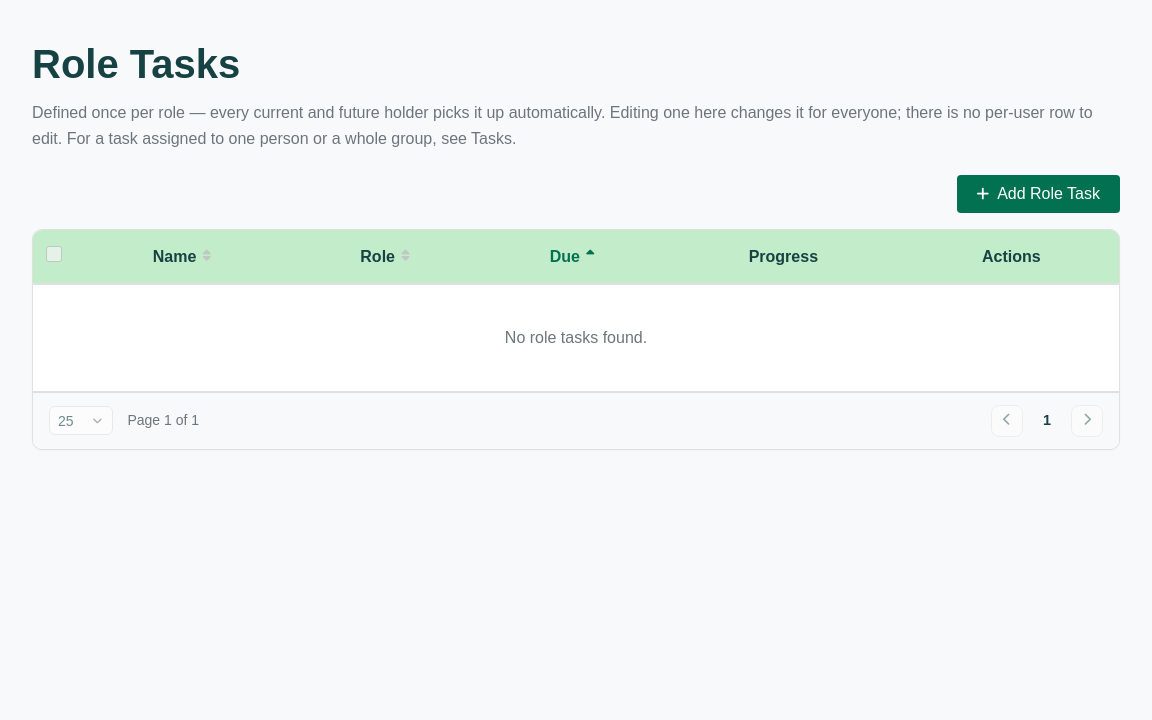
Scenario: AdminRoleTasksPage › offers each role name once when role metadata contains duplicates
This screenshot has width=1152, height=720.
Click the button "Add Role Task".
click(1038, 194)  # box left=956, top=175, right=1120, bottom=213
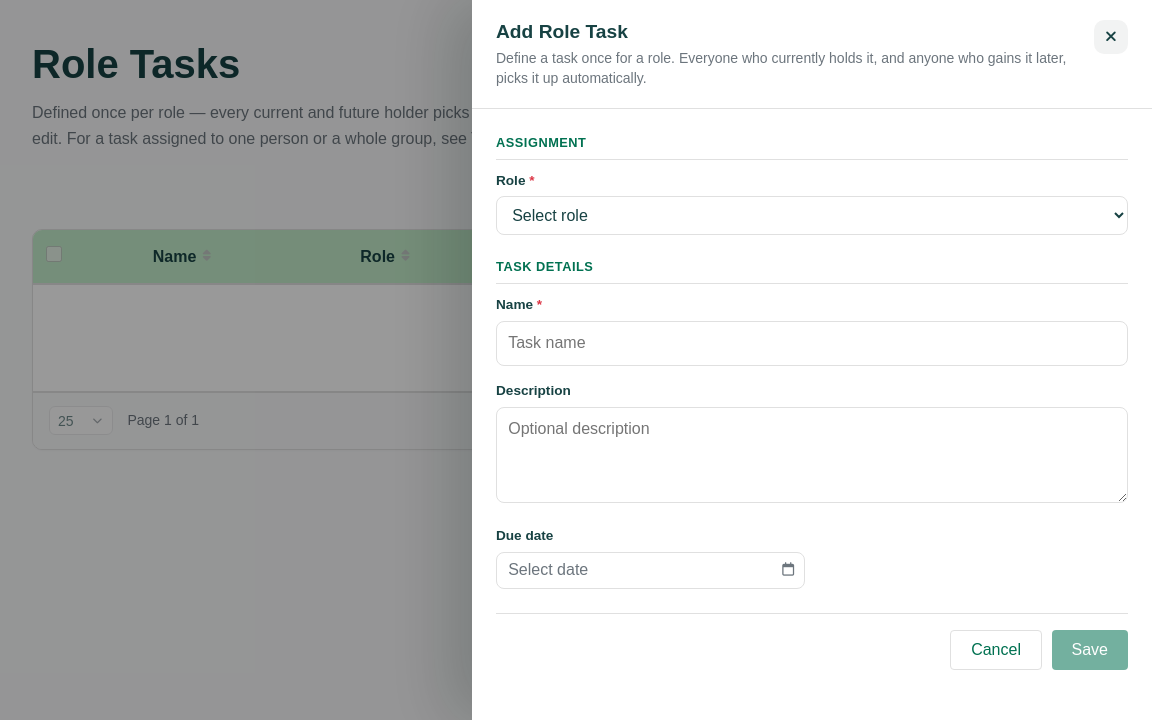
Select "Everyone with the mentor role" in the dropdown with id "role-task-role" at point(812, 216), box left=496, top=196, right=1128, bottom=235
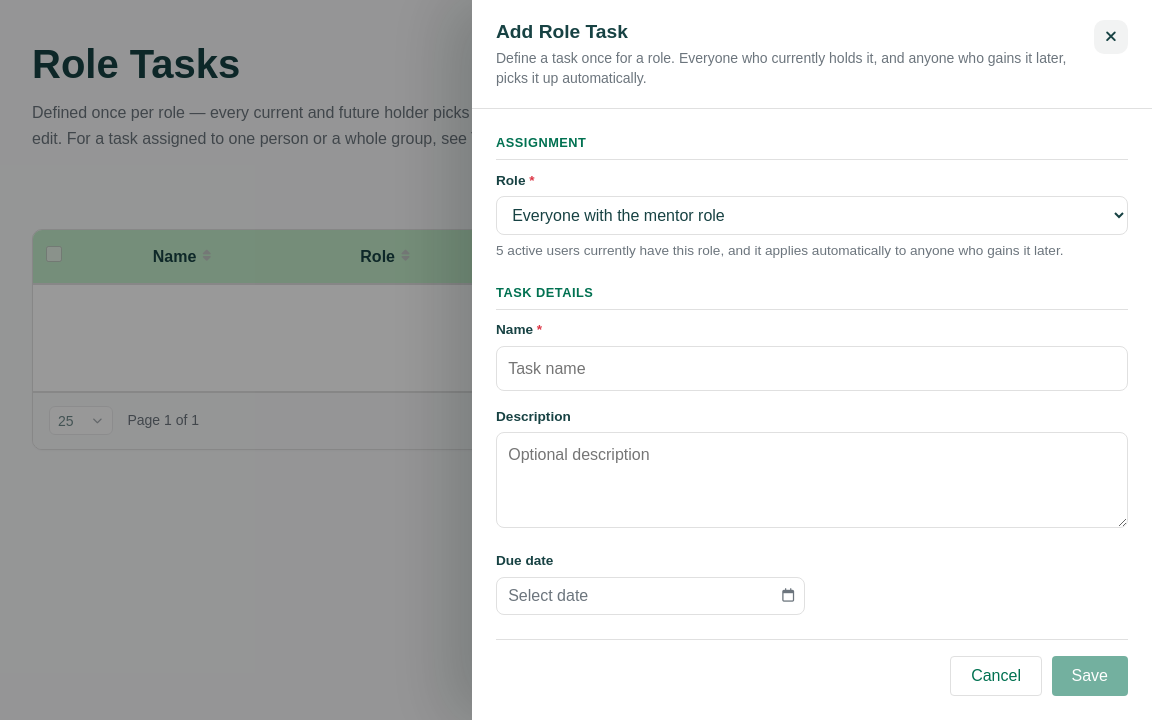
Check: the text "5 active users currently have this role" is shown, box left=496, top=243, right=1064, bottom=258
